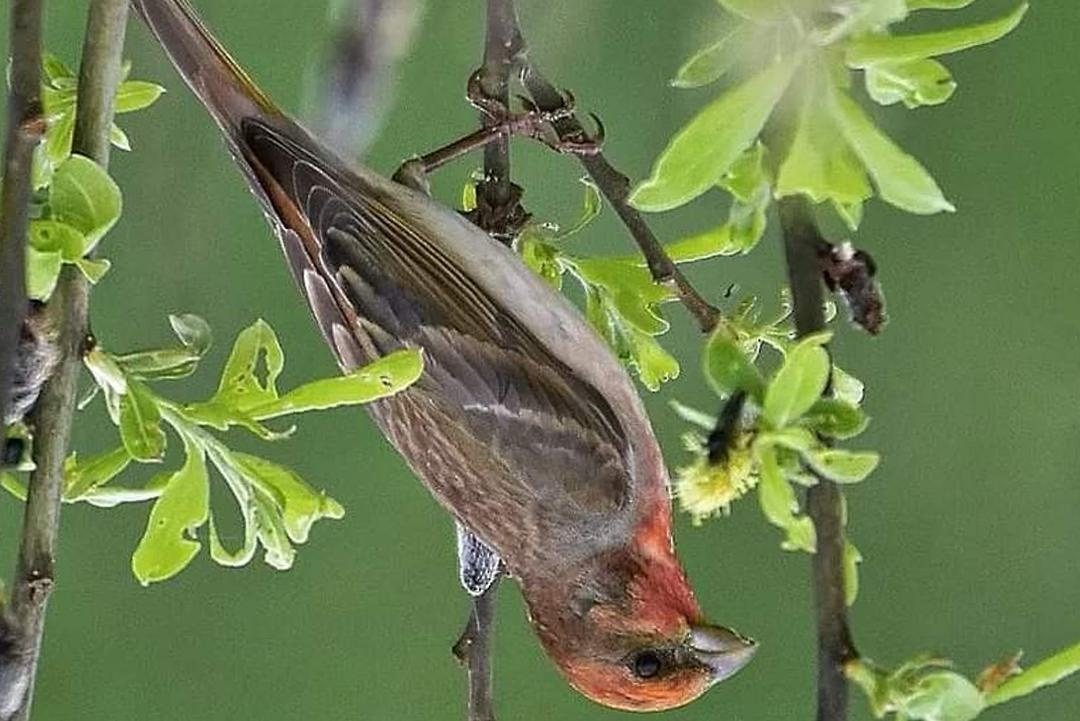rosefinch: (307, 127, 759, 697)
